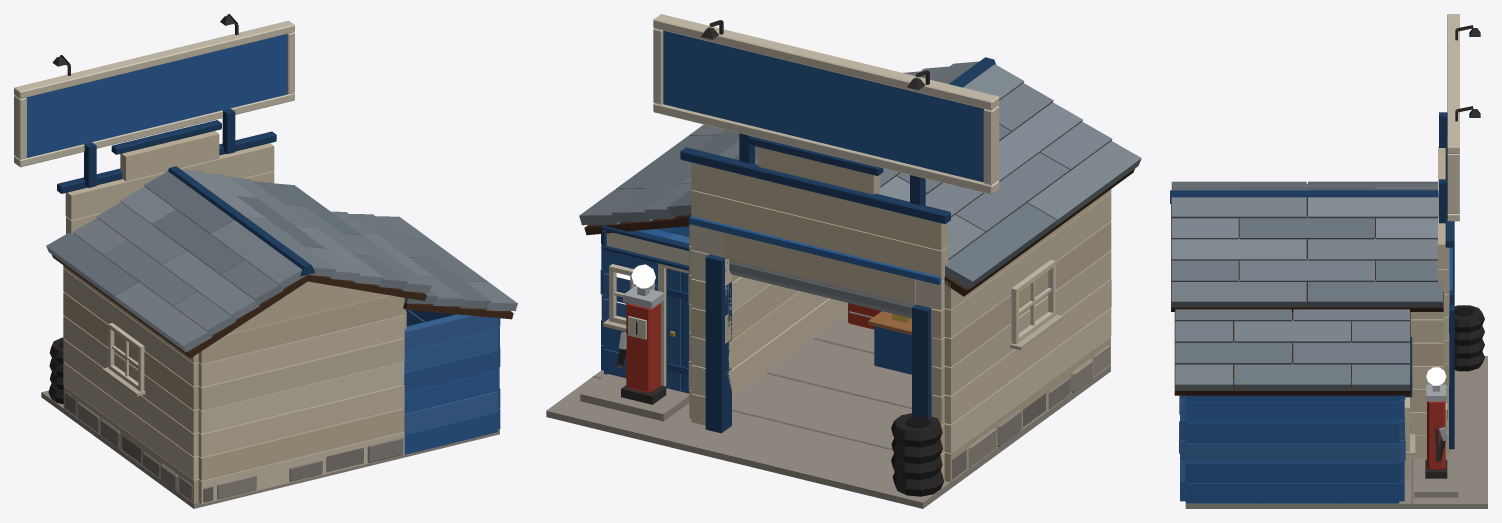
The model's file is Dealership.glb.
The picture shows the model from 3 angles, left to right: view 1: azimuth 30°, elevation 25°; view 2: azimuth 150°, elevation 25°; view 3: azimuth 270°, elevation 25°; orthographic projection. The views are drawn at different scales.
Parts seen in each view (by area): view 1: Body, Roof, Sign; view 2: Body, Roof, Sign, OfficeDoor, RollDoor, Counter, OfficeSign; view 3: Roof, Body.
Boxes of the visible parts, bbox=[...] form: Body: bbox=[14, 14, 500, 508]; Roof: bbox=[46, 166, 517, 358]; Sign: bbox=[26, 34, 287, 157]; Body: bbox=[546, 14, 1111, 508]; Roof: bbox=[579, 57, 1141, 296]; Sign: bbox=[663, 30, 983, 182]; OfficeDoor: bbox=[666, 268, 689, 393]; RollDoor: bbox=[729, 259, 915, 318]; Counter: bbox=[868, 311, 911, 374]; OfficeSign: bbox=[606, 233, 688, 265]; Roof: bbox=[1170, 181, 1443, 395]; Body: bbox=[1179, 14, 1487, 508].
Size of what is drawn, in the model's own units: 33.57 by 30.66 by 25.87.
